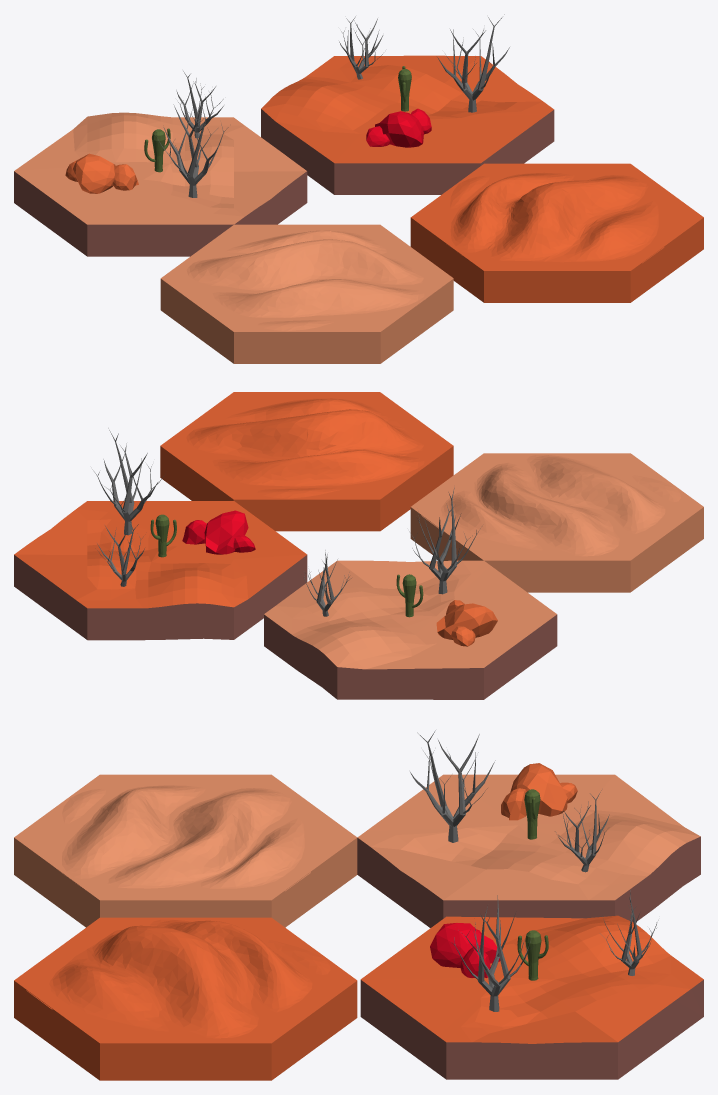
Rendered from Desert.fbx.
3 views of the same model, one above another, from view 1: azimuth 30°, elevation 25°; view 2: azimuth 150°, elevation 25°; view 3: azimuth 270°, elevation 25° (orthographic). The views are drawn at different scales.
Parts seen in each view (by area): view 1: Cylinder.014, Cylinder.002, Icosphere.001, Icosphere.002; view 2: Icosphere.002, Icosphere.001, Cylinder.002, Cylinder.014; view 3: Icosphere.001, Cylinder.002, Icosphere.002, Cylinder.014.
Part boxes in pixels (x1,y1,x2,y2): Cylinder.014: (160,224,453,363); Cylinder.002: (410,163,703,302); Icosphere.001: (261,14,554,194); Icosphere.002: (14,71,307,256); Icosphere.002: (264,487,557,699); Icosphere.001: (14,428,307,640); Cylinder.002: (160,392,453,531); Cylinder.014: (410,453,703,592); Icosphere.001: (360,890,703,1079); Cylinder.002: (14,917,357,1080); Icosphere.002: (357,730,700,927); Cylinder.014: (14,774,357,927).
Size of the model in its own units: 370 by 94.9 by 402.
